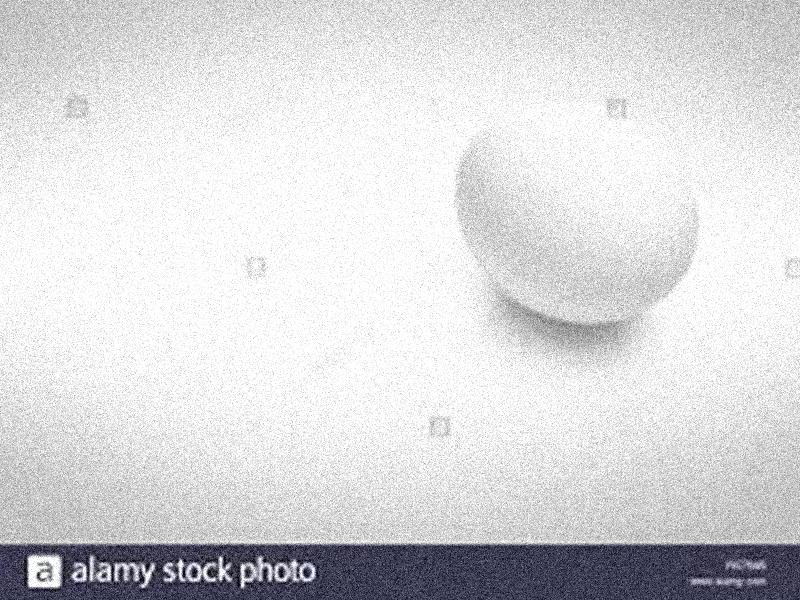Eggs: (457, 105, 701, 325)
